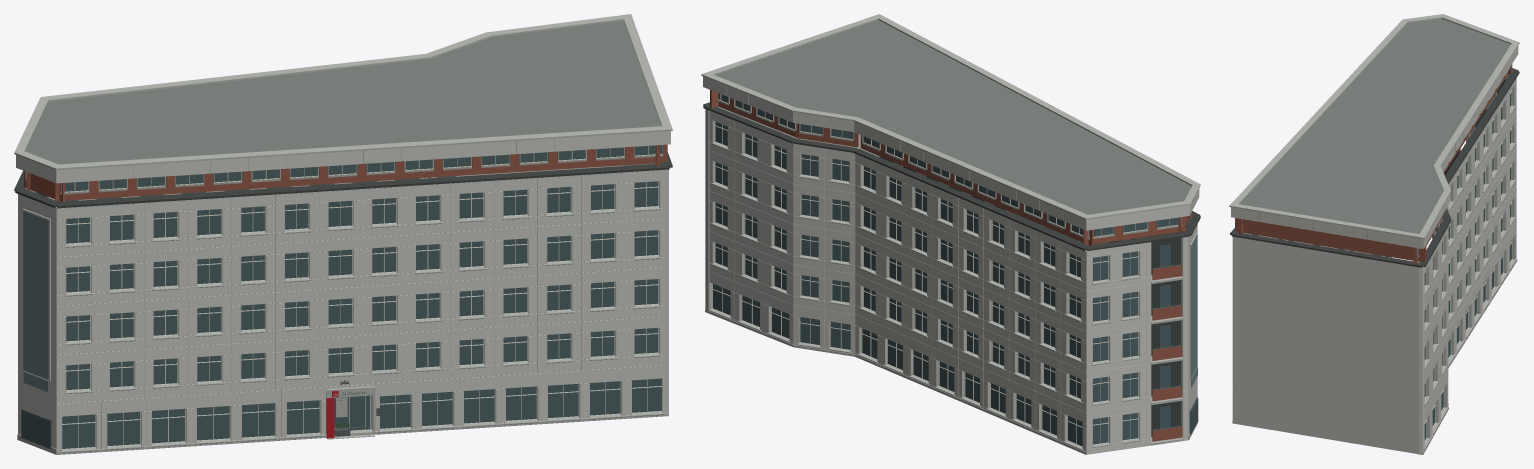
The model's file is stc-exterior-37b8197ebfcd.glb.
3 views of the same model, side by side, from view 1: azimuth 30°, elevation 25°; view 2: azimuth 150°, elevation 25°; view 3: azimuth 270°, elevation 25° (orthographic). The views are drawn at different scales.
Parts seen in each view (by area): view 1: STC.001; view 2: STC.001; view 3: STC.001.
Boxes of the visible parts, bbox=[...] form: STC.001: bbox=[14, 14, 672, 454]; STC.001: bbox=[701, 14, 1200, 454]; STC.001: bbox=[1229, 14, 1519, 454].
Bounding box in the file's own units: 45.99 × 20.91 × 25.19.
